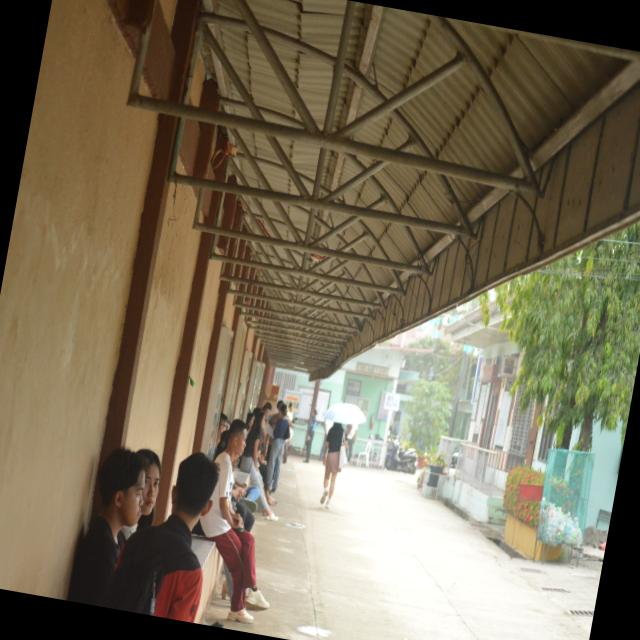person: (102, 453, 219, 622), (200, 420, 269, 623), (69, 448, 144, 605), (240, 409, 278, 520), (122, 449, 161, 539), (321, 423, 348, 508), (267, 404, 289, 493), (304, 410, 317, 463)
